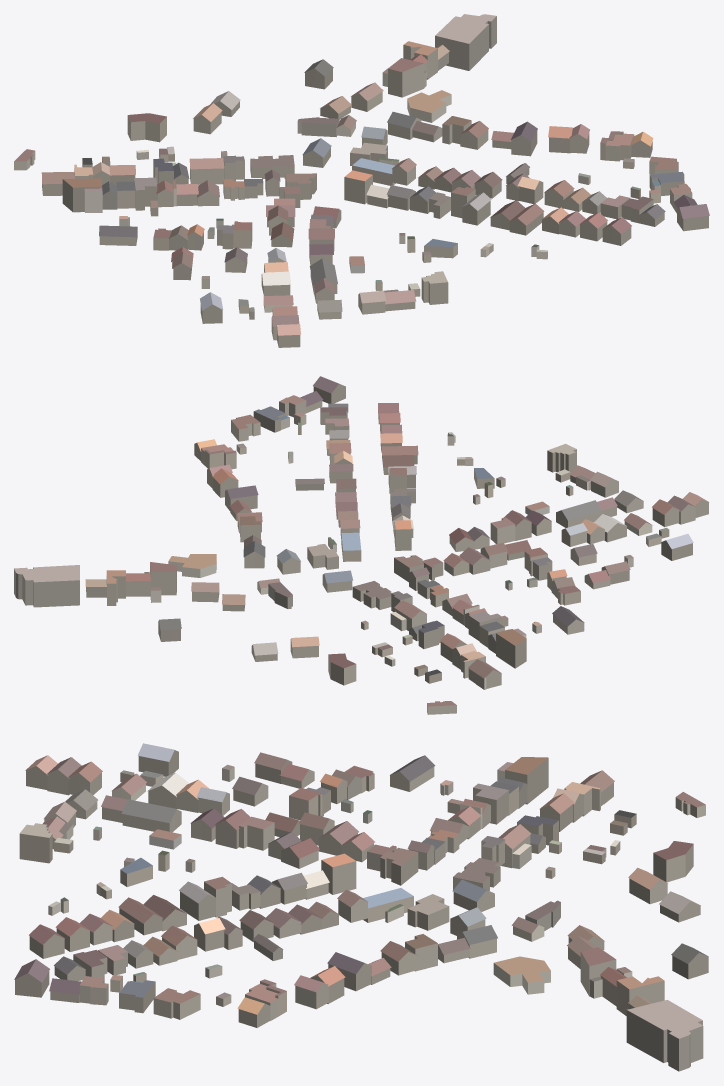
3 views of the same model, one above another, from view 1: azimuth 30°, elevation 25°; view 2: azimuth 150°, elevation 25°; view 3: azimuth 270°, elevation 25° (orthographic). The views are drawn at different scales.
Visible parts, largest first — view 1: tuile; view 2: tuile; view 3: tuile.
Part boxes in pixels (bbox=[...]): tuile: bbox=[14, 14, 709, 347]; tuile: bbox=[14, 376, 709, 714]; tuile: bbox=[14, 743, 708, 1071].
Bounding box in the file's own units: 270 × 31.59 × 262.
